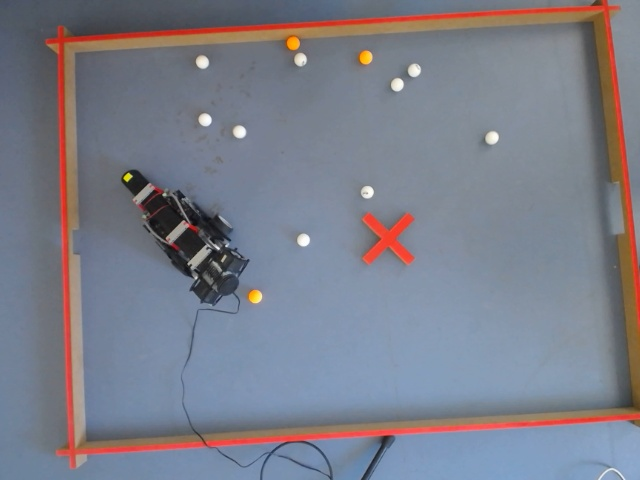orange: (357, 49, 374, 67), (288, 33, 304, 52), (248, 289, 263, 304), (286, 35, 300, 51)
robot: (121, 168, 247, 313)
white: (194, 53, 211, 71), (196, 110, 213, 128), (291, 51, 308, 69), (483, 129, 500, 146), (231, 123, 248, 140), (407, 61, 423, 79), (359, 184, 376, 200), (389, 76, 405, 93), (296, 232, 312, 248)
